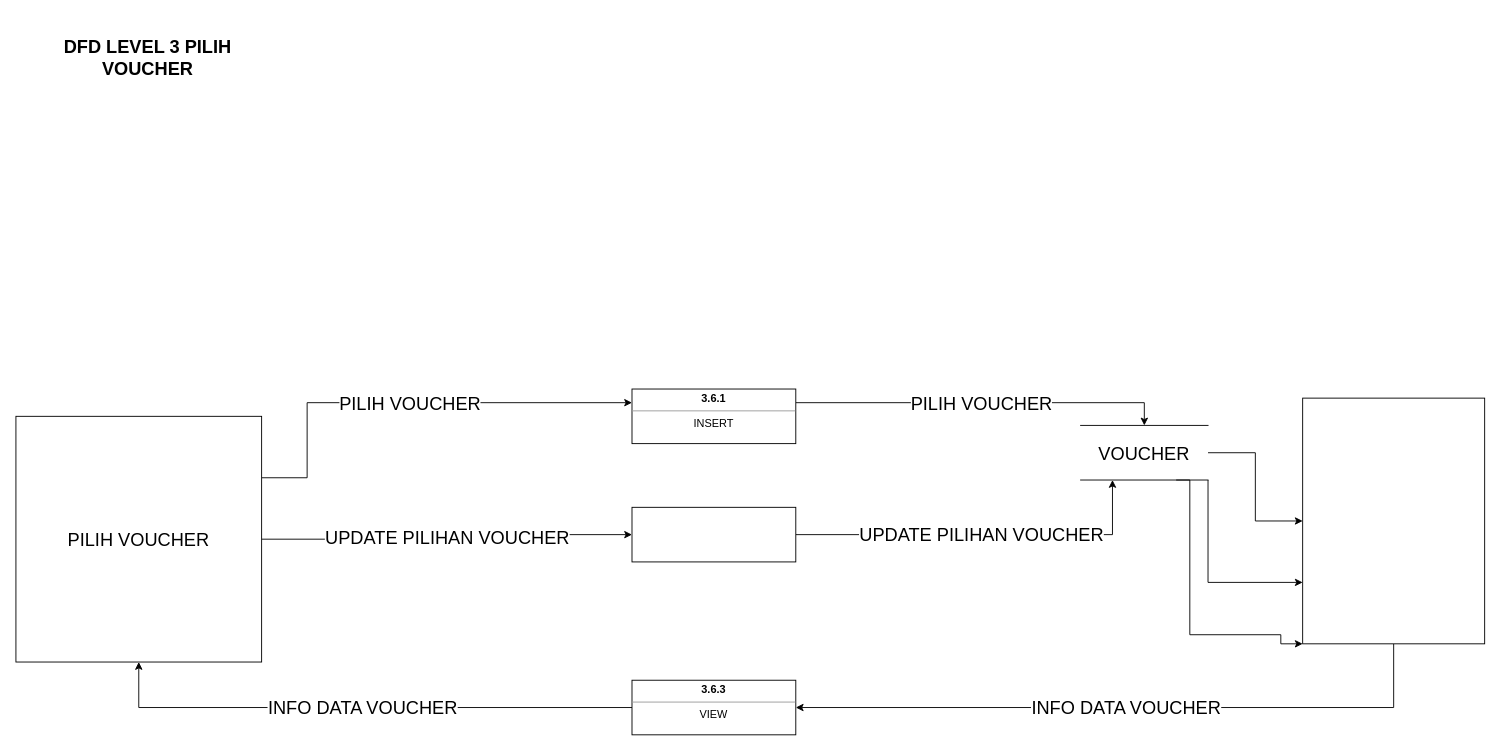
Some shapes in this 1501 by 751 pixel diagram are drawn without their labels. The shapes that lost their labels are listed below. From the top down, each one's centre as x and y in pixels, then its label:
the point at 713,534: 3.6.2 UPDATE
the point at 1393,520: SISTEM
